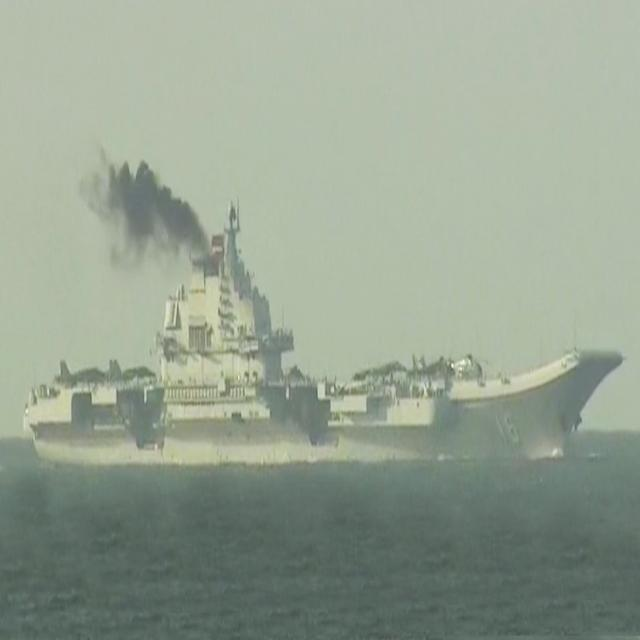Aircraft-Carrier-Kuznetsov-Class-CHI: (27, 180, 624, 458)
